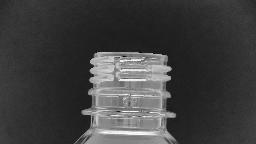No Cap: (79, 46, 181, 122)
